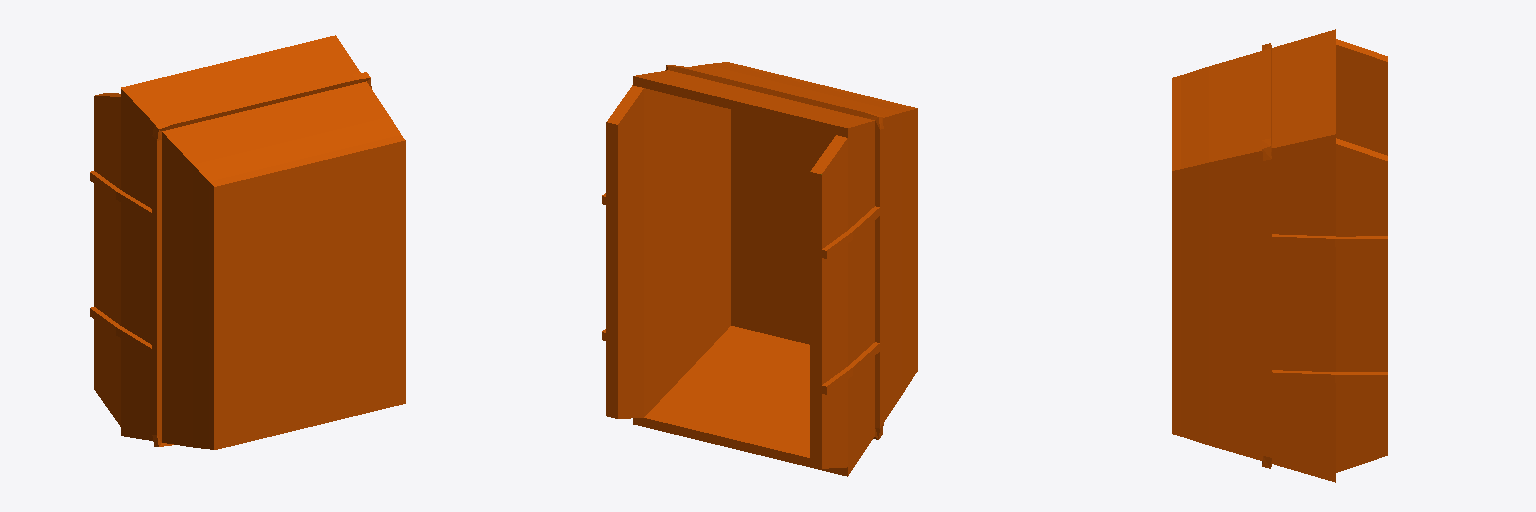
The picture shows the model from 3 angles: view 1: azimuth 30°, elevation 25°; view 2: azimuth 150°, elevation 25°; view 3: azimuth 270°, elevation 25°; orthographic projection.
Visible parts, largest first — view 1: dumpster-orange_Plane.201; view 2: dumpster-orange_Plane.201; view 3: dumpster-orange_Plane.201.
Boxes of the visible parts, box(x1,y1,x2,y2) form: dumpster-orange_Plane.201: box(90, 35, 405, 449); dumpster-orange_Plane.201: box(602, 62, 917, 476); dumpster-orange_Plane.201: box(1172, 29, 1387, 482).
Bounding box in the file's own units: 2.5 × 3.71 × 2.08.
1 materials, 1 textured.